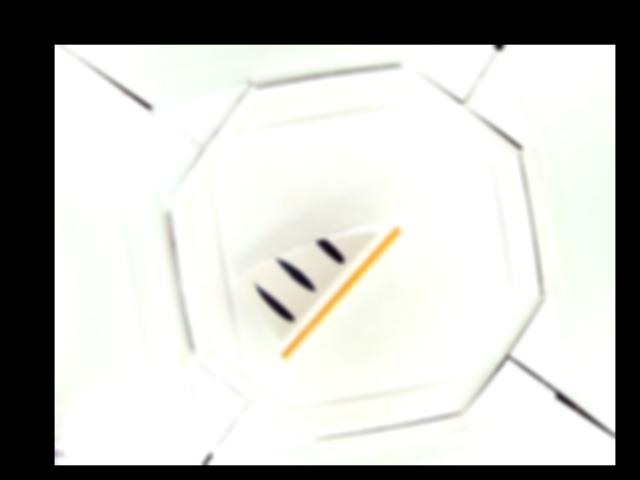China: (236, 223, 403, 361)
